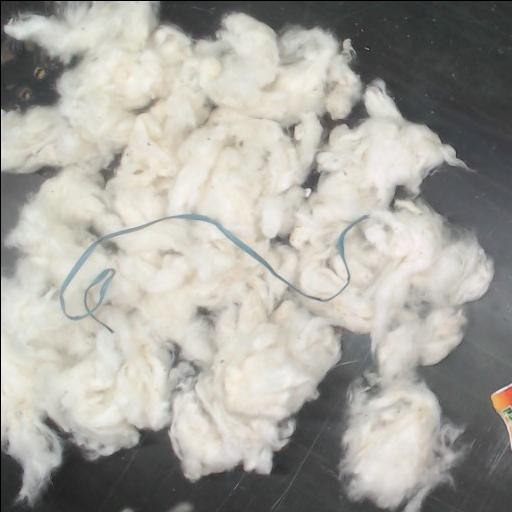cotton: (1, 1, 493, 512)
packet: (490, 382, 512, 450)
thread: (59, 213, 365, 320), (59, 214, 295, 332)
